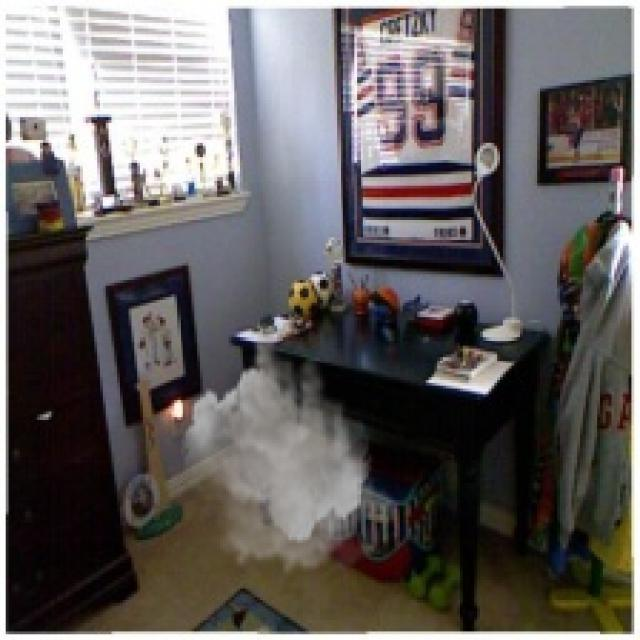smoke: (180, 317, 400, 577)
